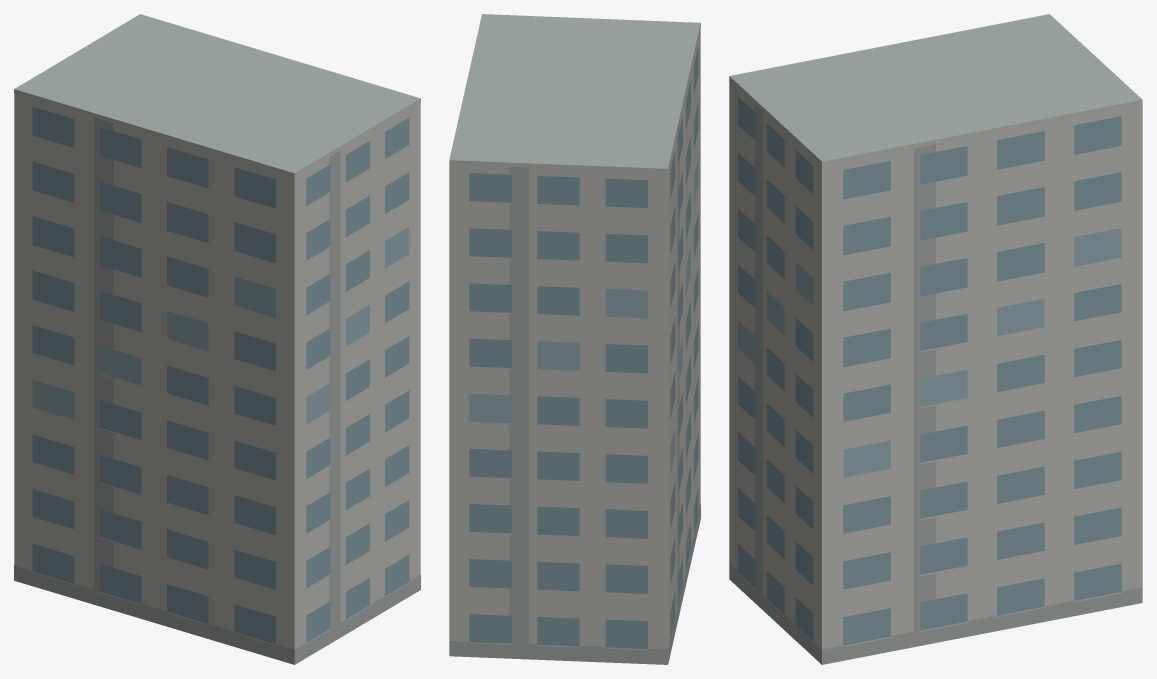
The model's file is residential-064f7076-f3b6-47a9-b936-f38edd04b6f2.glb.
3 renders of one model, left to right at view 1: azimuth 30°, elevation 25°; view 2: azimuth 150°, elevation 25°; view 3: azimuth 270°, elevation 25°, orthographic. The views are drawn at different scales.
Parts seen in each view (by area): view 1: residential-064f7076-f3b6-47a9-b936-f38edd04b6f2.tmp; view 2: residential-064f7076-f3b6-47a9-b936-f38edd04b6f2.tmp; view 3: residential-064f7076-f3b6-47a9-b936-f38edd04b6f2.tmp.
Part boxes in pixels (left/top/right/bottom): residential-064f7076-f3b6-47a9-b936-f38edd04b6f2.tmp: left=14, top=14, right=420, bottom=664; residential-064f7076-f3b6-47a9-b936-f38edd04b6f2.tmp: left=449, top=14, right=700, bottom=664; residential-064f7076-f3b6-47a9-b936-f38edd04b6f2.tmp: left=729, top=14, right=1142, bottom=664.
Size of the model in its own units: 17 by 27 by 20.1.
